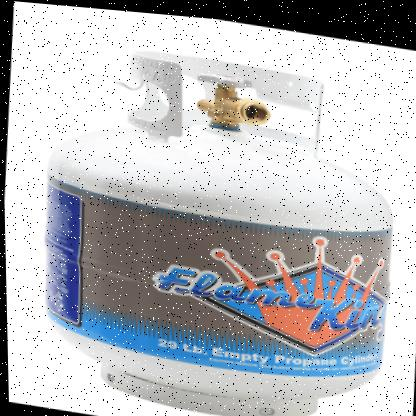gas-tank: (3, 17, 415, 415)
